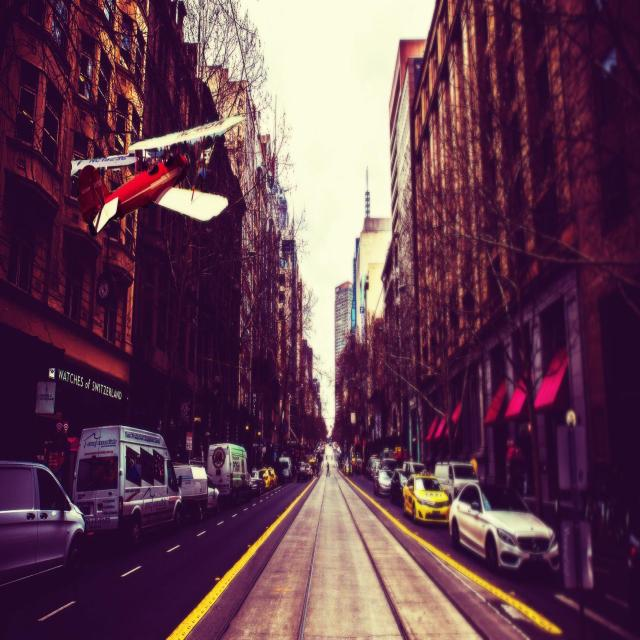airplane: (69, 111, 248, 236)
